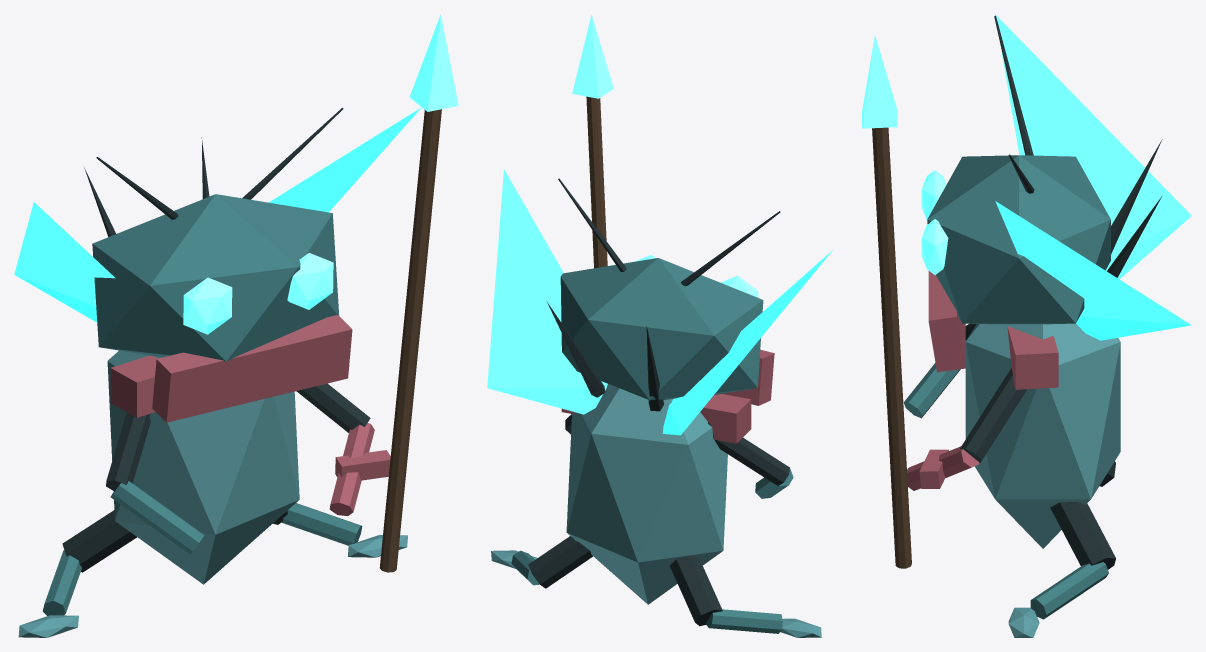
Rendered from oaven_jumper.glb.
3 renders of one model, left to right at view 1: azimuth 30°, elevation 25°; view 2: azimuth 150°, elevation 25°; view 3: azimuth 270°, elevation 25°, orthographic. The views are drawn at different scales.
Parts seen in each view (by area): view 1: wide_oaven_head, body_hunched_thorax, ragged_scarf_front, spear_shaft, left_gossamer_wing, right_gossamer_wing, cyan_spear_head, forearm_wrap_-1, shoulder_wrap, thigh_-1, left_glowing_eye, upper_arm_-1 (+9 smaller); view 2: body_hunched_thorax, wide_oaven_head, right_gossamer_wing, left_gossamer_wing, spear_shaft, thigh_-1, shoulder_wrap, cyan_spear_head, thigh_1, upper_arm_-1, shin_-1, ragged_scarf_front (+6 smaller); view 3: body_hunched_thorax, wide_oaven_head, left_gossamer_wing, right_gossamer_wing, spear_shaft, ragged_scarf_front, shoulder_wrap, thigh_1, upper_arm_1, cyan_spear_head, shin_1, forearm_wrap_-1 (+8 smaller).
Boxes of the visible parts, x1,y1,x2,y2 form: wide_oaven_head: [92, 194, 339, 361]; body_hunched_thorax: [107, 350, 299, 584]; ragged_scarf_front: [152, 315, 352, 422]; spear_shaft: [379, 109, 441, 572]; left_gossamer_wing: [14, 202, 115, 322]; right_gossamer_wing: [269, 107, 421, 212]; cyan_spear_head: [409, 14, 458, 111]; forearm_wrap_-1: [110, 481, 204, 554]; shoulder_wrap: [110, 355, 157, 417]; thigh_-1: [62, 510, 136, 572]; left_glowing_eye: [183, 277, 232, 334]; upper_arm_-1: [106, 412, 150, 490]; body_hunched_thorax: [566, 384, 727, 604]; wide_oaven_head: [560, 258, 763, 400]; right_gossamer_wing: [487, 169, 607, 414]; left_gossamer_wing: [662, 249, 833, 435]; spear_shaft: [586, 96, 607, 268]; thigh_-1: [669, 555, 722, 626]; shoulder_wrap: [561, 394, 751, 443]; cyan_spear_head: [572, 14, 613, 98]; thigh_1: [528, 536, 592, 588]; upper_arm_-1: [708, 422, 789, 485]; shin_-1: [706, 609, 782, 633]; ragged_scarf_front: [722, 349, 774, 405]; body_hunched_thorax: [965, 323, 1120, 548]; wide_oaven_head: [927, 155, 1110, 324]; left_gossamer_wing: [995, 14, 1191, 279]; right_gossamer_wing: [995, 201, 1191, 340]; spear_shaft: [872, 127, 911, 568]; ragged_scarf_front: [928, 271, 965, 372]; shoulder_wrap: [1007, 326, 1058, 389]; thigh_1: [1050, 502, 1115, 569]; upper_arm_1: [960, 368, 1027, 462]; cyan_spear_head: [862, 35, 897, 128]; shin_1: [1030, 562, 1108, 619]; forearm_wrap_-1: [903, 340, 965, 418].
Size of the model in its own units: 1.85 by 2.71 by 1.37.
